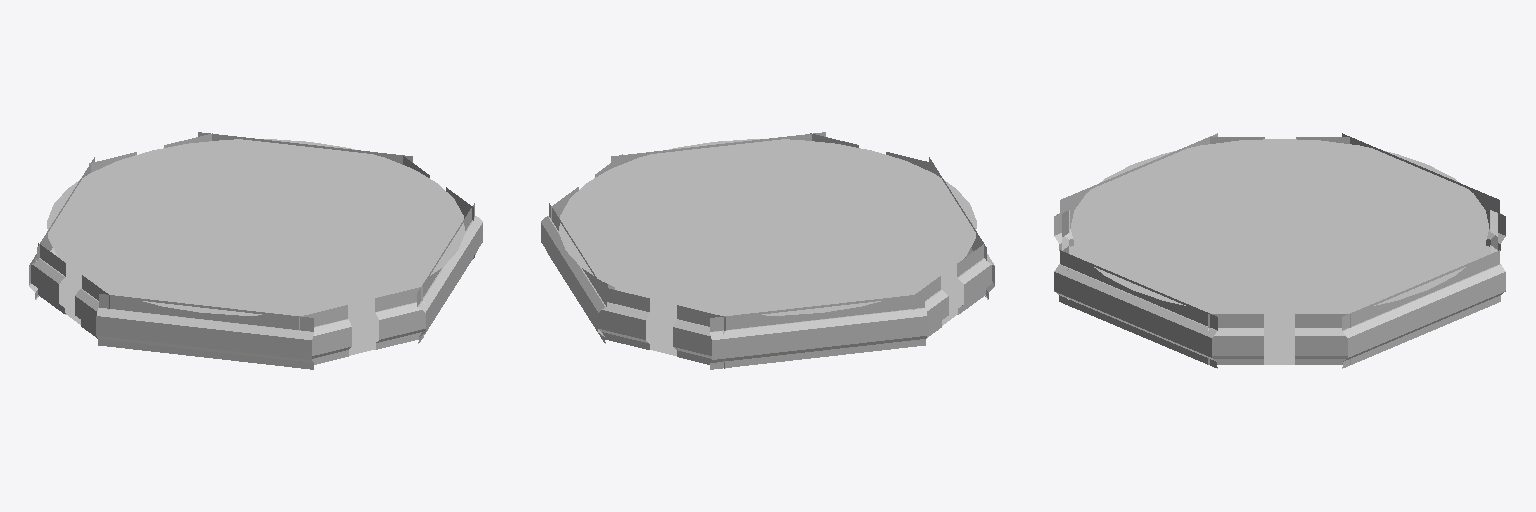
The model's file is LDJAM 49.obj.
3 views of the same model, side by side, from view 1: azimuth 30°, elevation 25°; view 2: azimuth 150°, elevation 25°; view 3: azimuth 270°, elevation 25° (orthographic).
Parts seen in each view (by area): view 1: Circle, wall, wall.001, wall.002, plane_Plane; view 2: Circle, wall, wall.002, wall.001, plane_Plane; view 3: Circle, wall, wall.002, wall.001, plane_Plane.
Boxes of the visible parts, x1,y1,x2,y2 form: Circle: [47, 139, 464, 315]; wall: [29, 132, 482, 369]; wall.001: [31, 152, 474, 349]; wall.002: [75, 133, 429, 364]; plane_Plane: [59, 260, 426, 355]; Circle: [559, 139, 976, 315]; wall: [541, 132, 994, 369]; wall.002: [551, 152, 991, 349]; wall.001: [595, 133, 948, 368]; plane_Plane: [615, 260, 963, 355]; Circle: [1071, 139, 1488, 315]; wall: [1054, 133, 1505, 368]; wall.002: [1062, 137, 1497, 364]; wall.001: [1063, 137, 1497, 364]; plane_Plane: [1070, 245, 1489, 364].
Size of the model in its own units: 32 by 4.89 by 32.34.